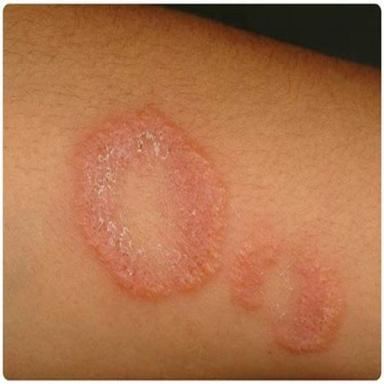Tinea-Corporis: (76, 113, 227, 299), (230, 215, 345, 353)
